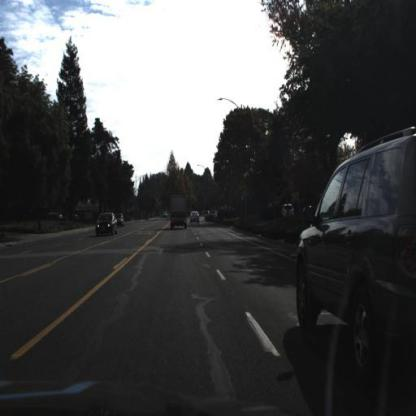car: (296, 129, 415, 394), (172, 190, 195, 235), (96, 211, 120, 242), (113, 213, 129, 229), (190, 209, 203, 228)
truck: (167, 187, 190, 235)
